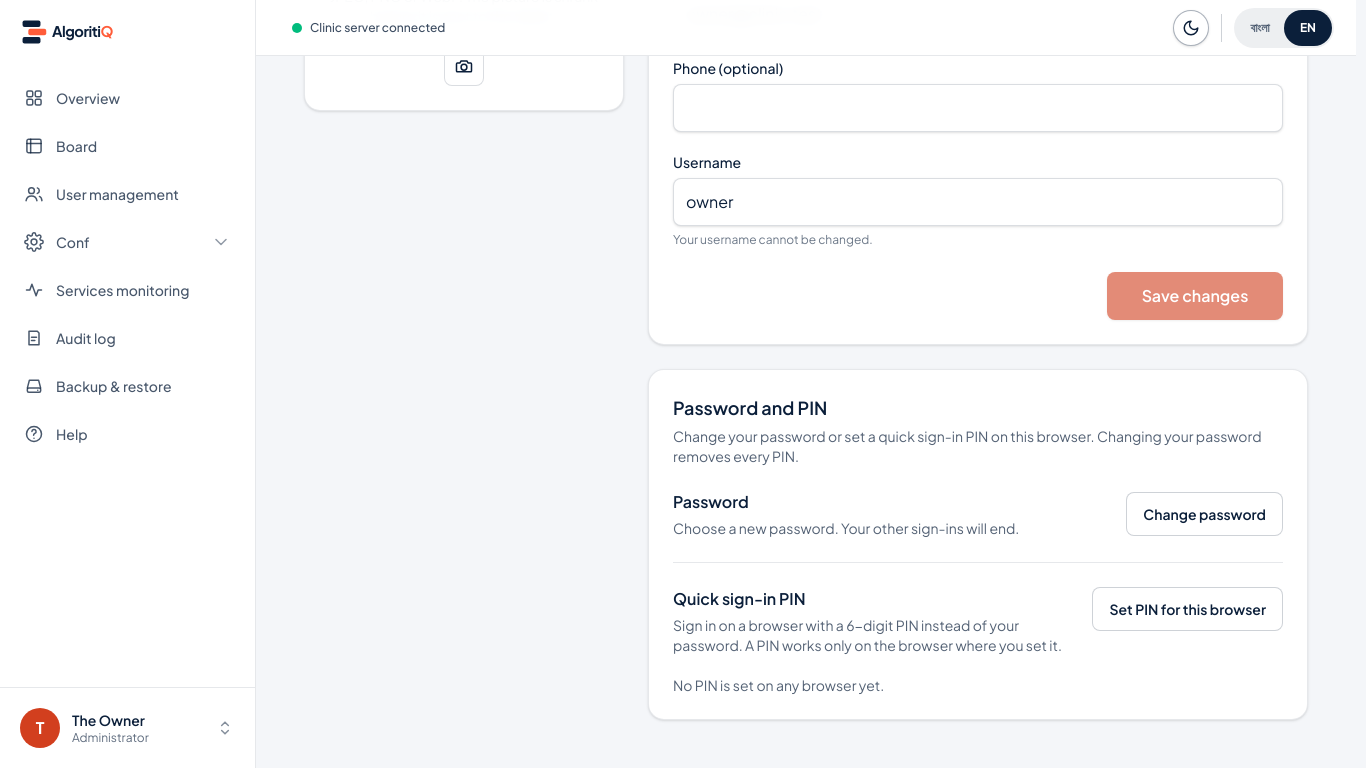
it: PIN card in settings › setting a PIN (popup) › should need the same PIN twice and the password
The width and height of the screenshot is (1366, 768).
(page scrolled)
Expected: the heading "Password and PIN" is shown, [673,396,827,419]
Click the button "Set PIN for this browser" at (1188, 609), box [1092,587,1283,631]
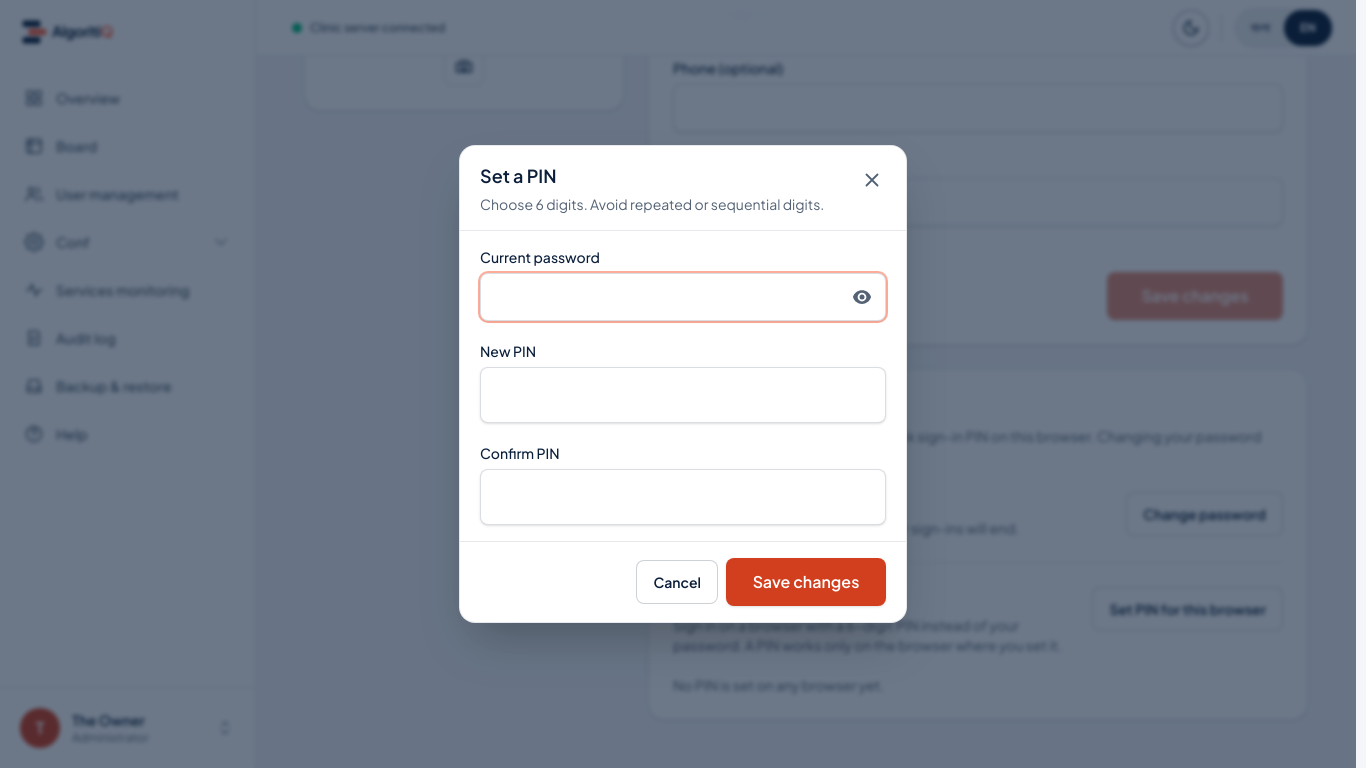
Type "482913" into the password field labelled "New PIN" at (683, 395), box [480,367,886,423]
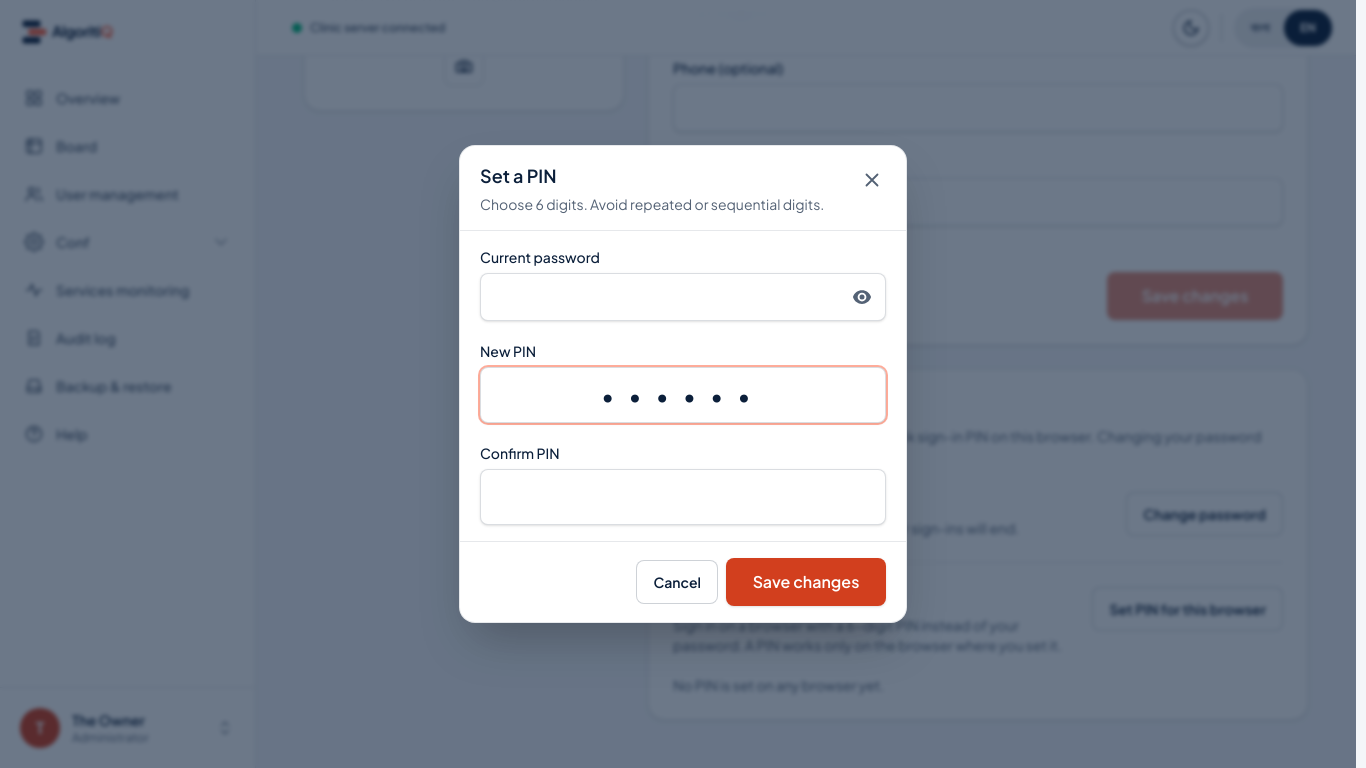
Type "482914" into the password field labelled "Confirm PIN" at (683, 497), box [480,469,886,525]
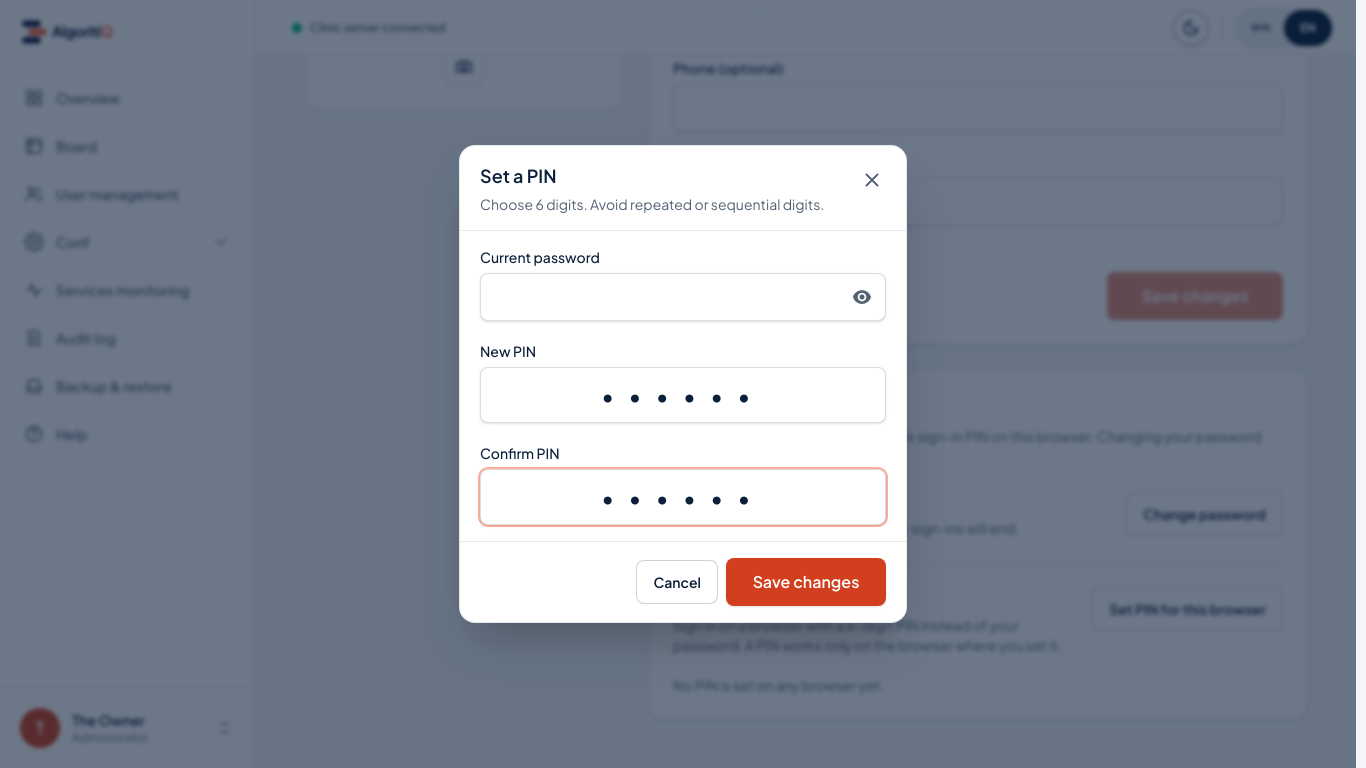
Click the button "Save changes" at (806, 582), box [726,558,886,606]
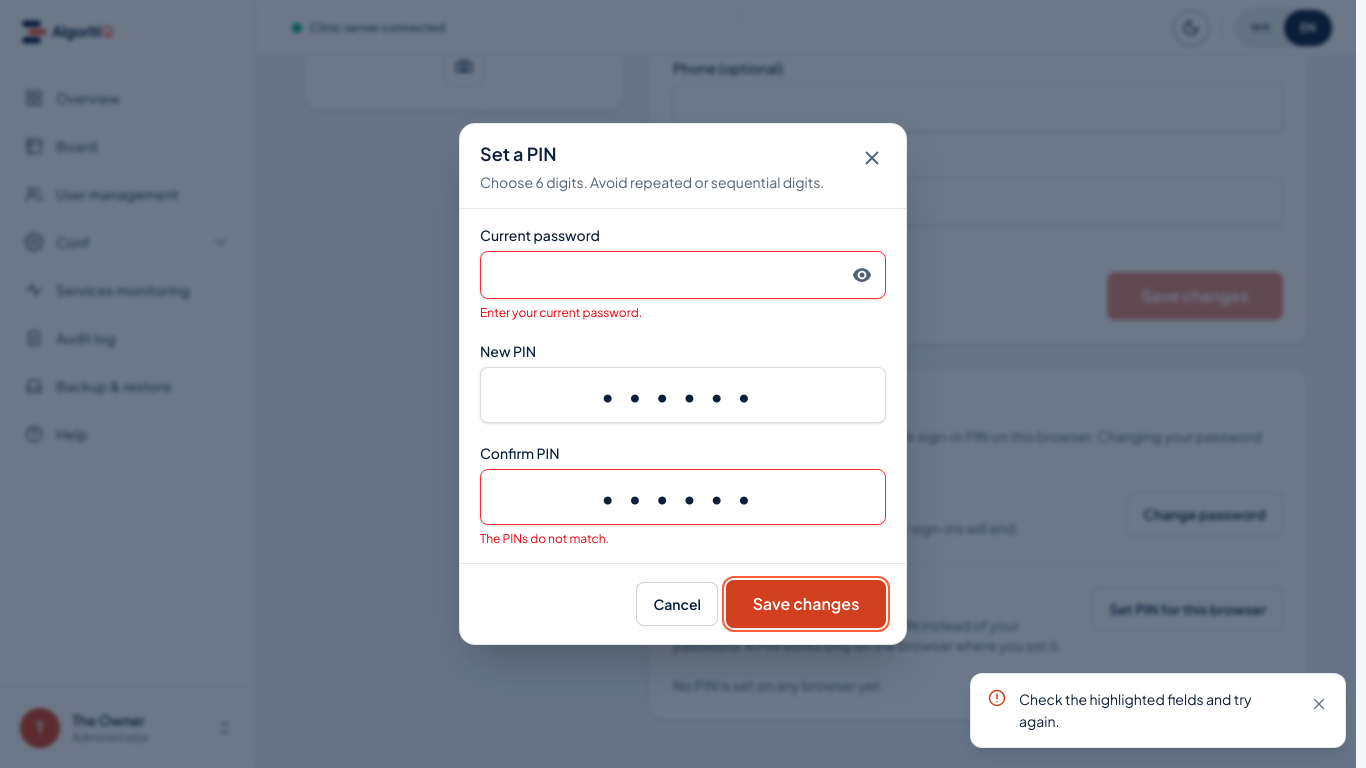
Expected: the text "The PINs do not match." is shown, [480,531,609,546]
Expected: the text "Enter your current password." is shown, [480,305,642,320]
